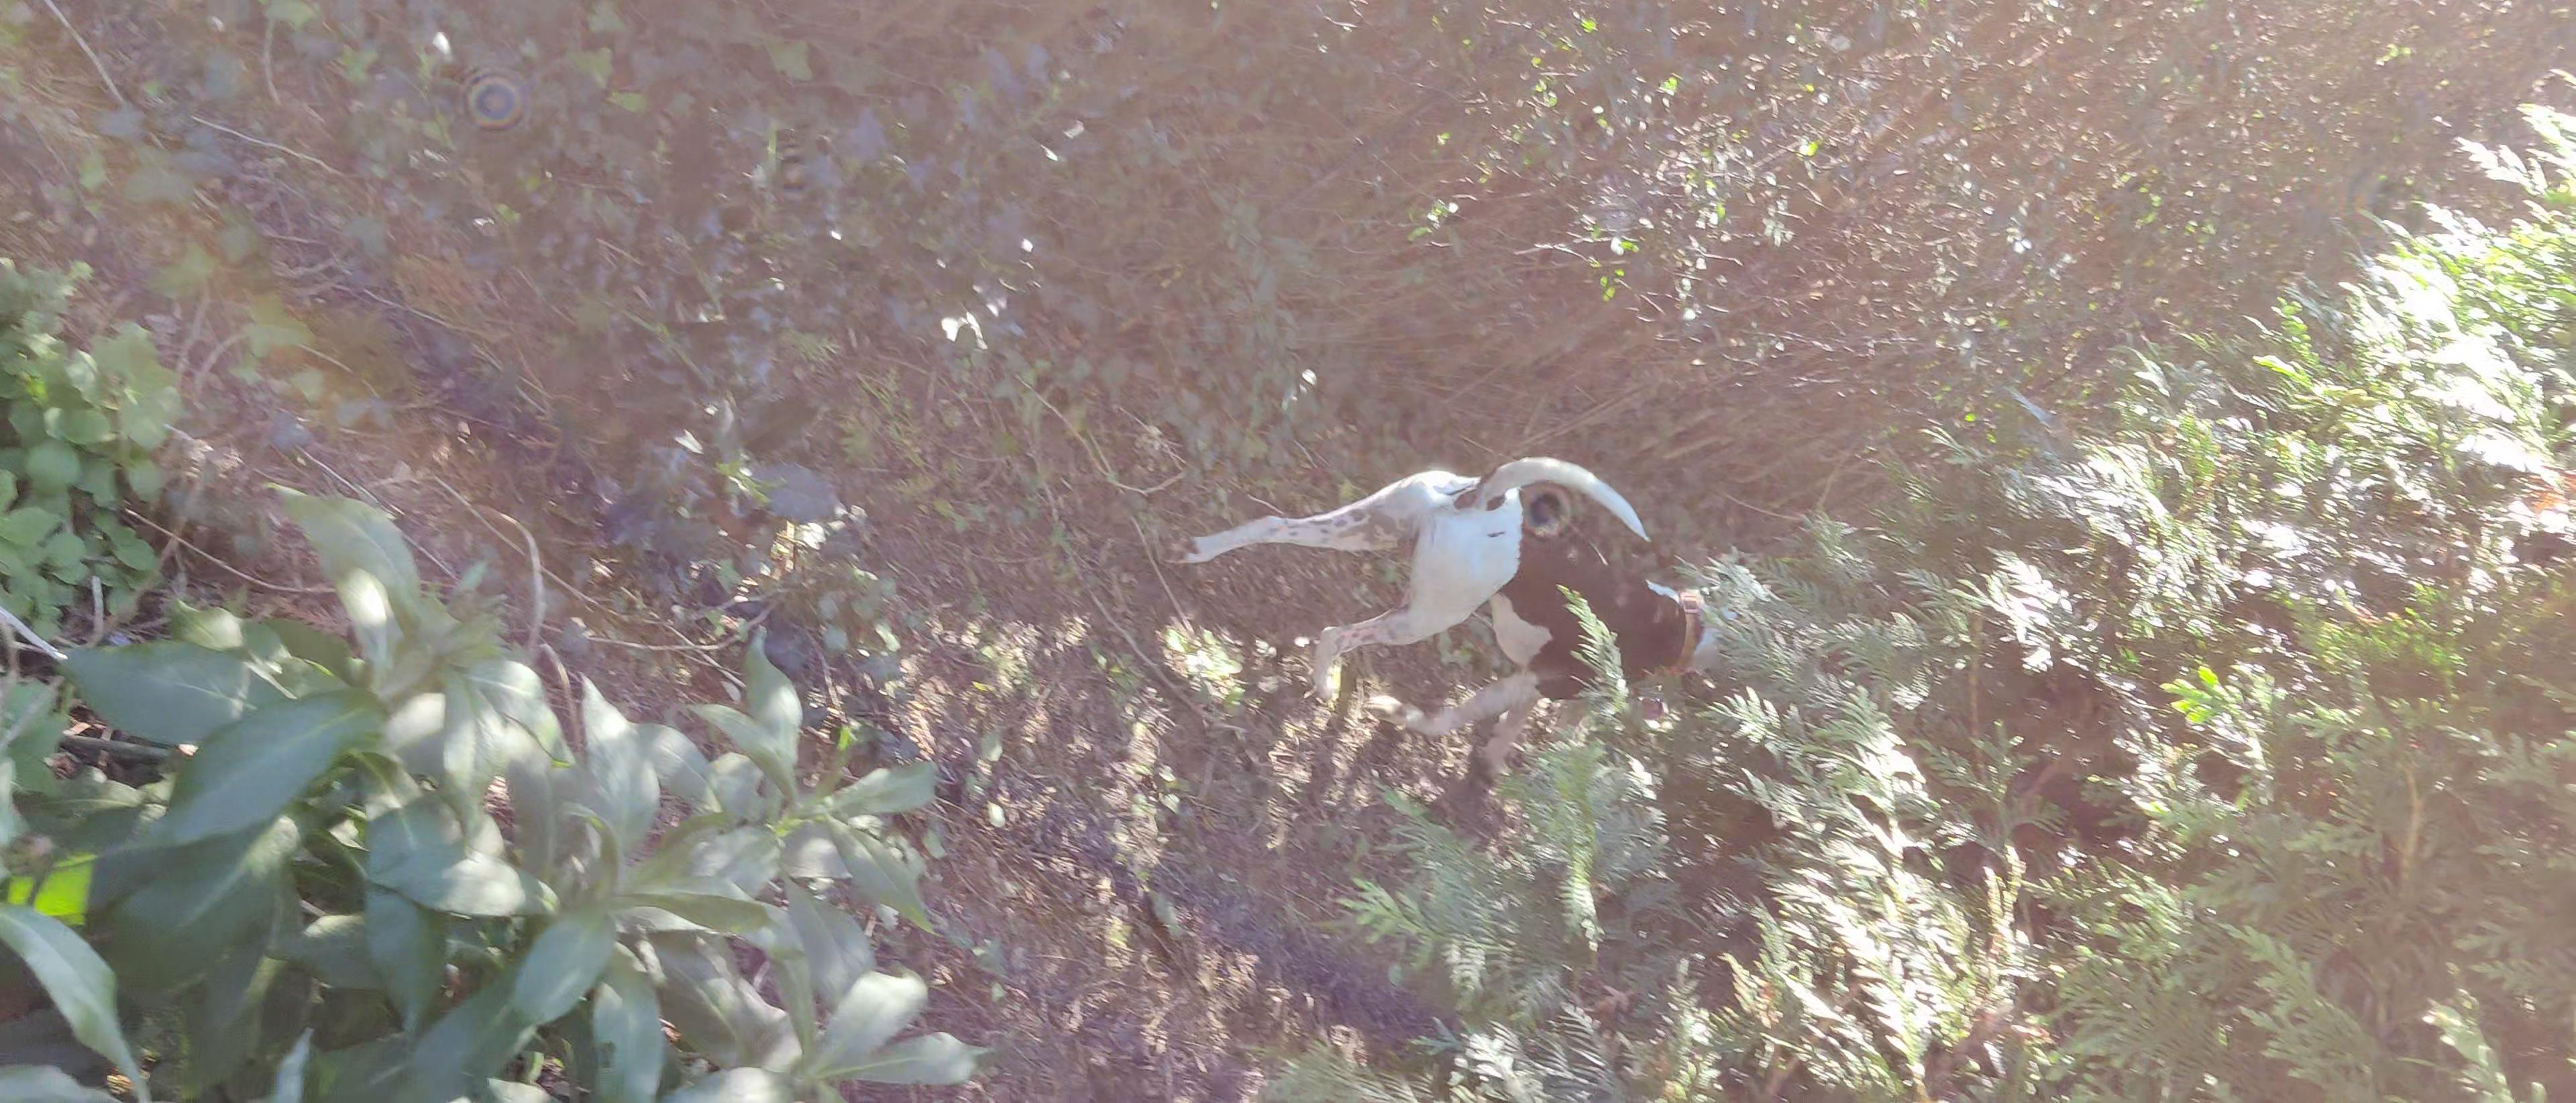Dog: (1155, 449, 1758, 778)
